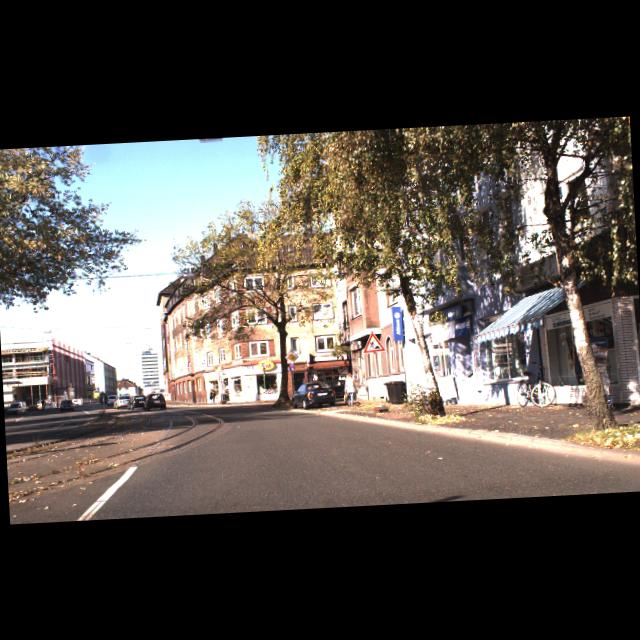danger: (362, 330, 386, 352)
other: (284, 348, 298, 364)
